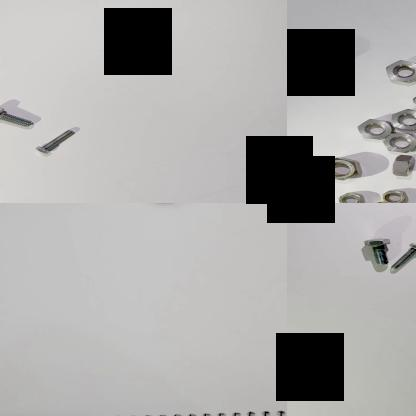Bolts: (32, 124, 81, 155), (0, 104, 42, 130), (358, 236, 394, 266), (390, 241, 416, 269)
NUTS: (318, 154, 364, 180), (353, 116, 395, 142), (384, 56, 416, 82), (382, 130, 416, 154), (390, 153, 416, 180), (323, 42, 355, 62), (392, 105, 416, 131), (377, 188, 411, 203), (334, 189, 367, 203), (409, 91, 416, 110), (364, 199, 397, 203)
